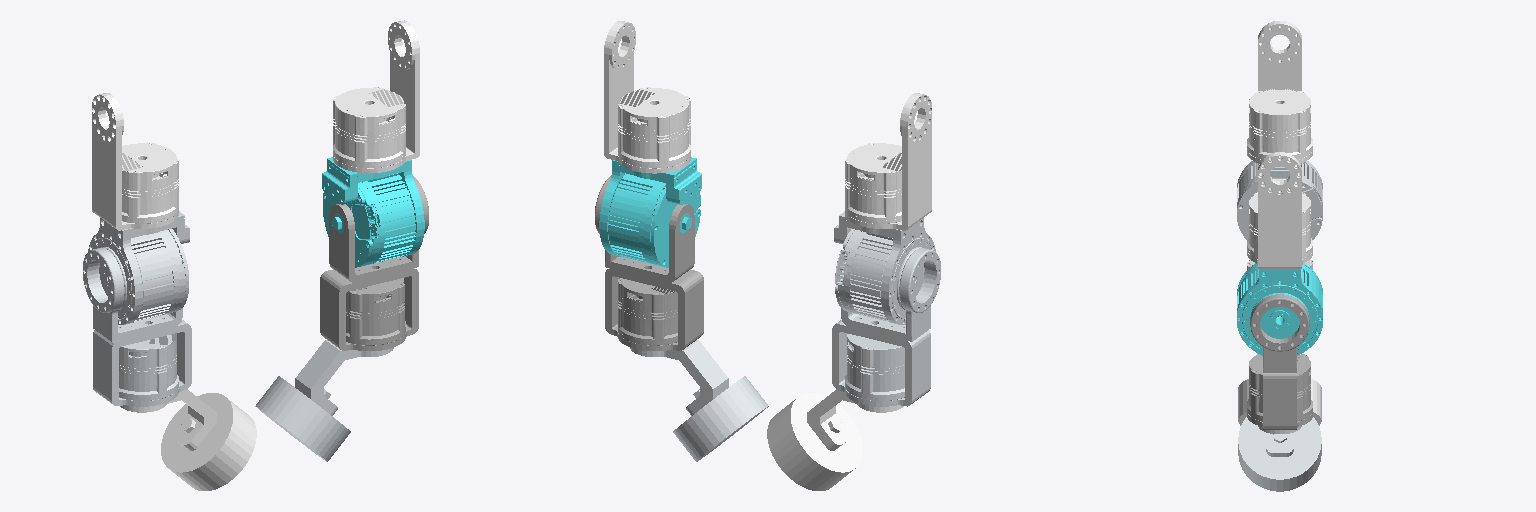
URDF robot description (00样机（更换电机）-x12.SLDASM):
<?xml version="1.0" encoding="utf-8"?>
<!-- This URDF was automatically created by SolidWorks to URDF Exporter! Originally created by Stephen Brawner (brawner@gmail.com) 
     Commit Version: 1.6.0-4-g7f85cfe  Build Version: 1.6.7995.38578
     For more information, please see http://wiki.ros.org/sw_urdf_exporter -->
<robot
  name="00样机（更换电机）-x12.SLDASM">
  <link
    name="base_link">
    <inertial>
      <origin
        xyz="-0.0 6.0765E-11 0.0"
        rpy="0 0 0" />
      <mass
        value="4.046" />
      <inertia
        ixx="0.0011674"
        ixy="1.8298E-12"
        ixz="7.6374E-05"
        iyy="0.0014108"
        iyz="1.5261E-14"
        izz="0.0013986" />
    </inertial>
    <visual>
      <origin
        xyz="0 0 0"
        rpy="0 0 0" />
      <geometry>
        <mesh
          filename="package://00样机（更换电机）-x12.SLDASM/meshes/base_link.STL" />
      </geometry>
      <material
        name="">
        <color
          rgba="1 1 1 1" />
      </material>
    </visual>
    <collision>
      <origin
        xyz="0 0 0"
        rpy="0 0 0" />
      <geometry>
        <mesh
          filename="package://00样机（更换电机）-x12.SLDASM/meshes/base_link.STL" />
      </geometry>
    </collision>
  </link>
  <link
    name="L1">
    <inertial>
      <origin
        xyz="-0.0058616 -2.587E-05 0.088761"
        rpy="0 0 0" />
      <mass
        value="2.256" />
      <inertia
        ixx="0.0013069"
        ixy="8.6975E-07"
        ixz="-0.00012077"
        iyy="0.0022158"
        iyz="2.8181E-08"
        izz="0.0016528" />
    </inertial>
    <visual>
      <origin
        xyz="0 0 0"
        rpy="0 0 0" />
      <geometry>
        <mesh
          filename="package://00样机（更换电机）-x12.SLDASM/meshes/L1.STL" />
      </geometry>
      <material
        name="">
        <color
          rgba="0.89804 0.91765 0.92941 1" />
      </material>
    </visual>
    <collision>
      <origin
        xyz="0 0 0"
        rpy="0 0 0" />
      <geometry>
        <mesh
          filename="package://00样机（更换电机）-x12.SLDASM/meshes/L1.STL" />
      </geometry>
    </collision>
  </link>
  <joint
    name="J1"
    type="revolute">
    <origin
      xyz="-0.11768 0 0.10853"
      rpy="0 0 0" />
    <parent
      link="base_link" />
    <child
      link="L1" />
    <axis
      xyz="0 0 1" />
    <limit
      lower="-3.14"
      upper="3.14"
      effort="1"
      velocity="1" />
  </joint>
  <link
    name="L2">
    <inertial>
      <origin
        xyz="0.068841 -0.0018757 0.036586"
        rpy="0 0 0" />
      <mass
        value="2.944" />
      <inertia
        ixx="0.00074098"
        ixy="2.9576E-09"
        ixz="1.6346E-06"
        iyy="0.00050229"
        iyz="1.6291E-05"
        izz="0.00043746" />
    </inertial>
    <visual>
      <origin
        xyz="0 0 0"
        rpy="0 0 0" />
      <geometry>
        <mesh
          filename="package://00样机（更换电机）-x12.SLDASM/meshes/L2.STL" />
      </geometry>
      <material
        name="">
        <color
          rgba="0.89804 0.91765 0.92941 1" />
      </material>
    </visual>
    <collision>
      <origin
        xyz="0 0 0"
        rpy="0 0 0" />
      <geometry>
        <mesh
          filename="package://00样机（更换电机）-x12.SLDASM/meshes/L2.STL" />
      </geometry>
    </collision>
  </link>
  <joint
    name="J2"
    type="revolute">
    <origin
      xyz="-0.0585000000000002 0 0.1785"
      rpy="0 0 0" />
    <parent
      link="L1" />
    <child
      link="L2" />
    <axis
      xyz="1 0 0" />
    <limit
      lower="-1"
      upper="1"
      effort="1"
      velocity="1" />
  </joint>
  <link
    name="L3">
    <inertial>
      <origin
        xyz="-0.030392 7.893E-06 0.065305"
        rpy="0 0 0" />
      <mass
        value="1.716" />
      <inertia
        ixx="0.0012653"
        ixy="2.9005E-07"
        ixz="0.00022729"
        iyy="0.0013329"
        iyz="-9.1335E-09"
        izz="0.00052747" />
    </inertial>
    <visual>
      <origin
        xyz="0 0 0"
        rpy="0 0 0" />
      <geometry>
        <mesh
          filename="package://00样机（更换电机）-x12.SLDASM/meshes/L3.STL" />
      </geometry>
      <material
        name="">
        <color
          rgba="1 1 1 1" />
      </material>
    </visual>
    <collision>
      <origin
        xyz="0 0 0"
        rpy="0 0 0" />
      <geometry>
        <mesh
          filename="package://00样机（更换电机）-x12.SLDASM/meshes/L3.STL" />
      </geometry>
    </collision>
  </link>
  <joint
    name="J3"
    type="revolute">
    <origin
      xyz="0.0585 0 0.0770000000000003"
      rpy="0 0 0" />
    <parent
      link="L2" />
    <child
      link="L3" />
    <axis
      xyz="0 0 -1" />
    <limit
      lower="-3.14"
      upper="3.14"
      effort="1"
      velocity="1" />
  </joint>
  <link
    name="L4">
    <inertial>
      <origin
        xyz="0.22293 -0.001663 -0.0070027"
        rpy="0 0 0" />
      <mass
        value="7.8919" />
      <inertia
        ixx="0.053828"
        ixy="-1.7567E-05"
        ixz="-9.6843E-08"
        iyy="0.03702"
        iyz="9.8893E-07"
        izz="0.078148" />
    </inertial>
    <visual>
      <origin
        xyz="0 0 0"
        rpy="0 0 0" />
      <geometry>
        <mesh
          filename="package://00样机（更换电机）-x12.SLDASM/meshes/L4.STL" />
      </geometry>
      <material
        name="">
        <color
          rgba="0.65098 0.61961 0.58824 1" />
      </material>
    </visual>
    <collision>
      <origin
        xyz="0 0 0"
        rpy="0 0 0" />
      <geometry>
        <mesh
          filename="package://00样机（更换电机）-x12.SLDASM/meshes/L4.STL" />
      </geometry>
    </collision>
  </link>
  <joint
    name="J4"
    type="revolute">
    <origin
      xyz="-0.0520000000000003 0 0.156"
      rpy="0 0 0" />
    <parent
      link="L3" />
    <child
      link="L4" />
    <axis
      xyz="1 0 0" />
    <limit
      lower="-3.14"
      upper="3.14"
      effort="1"
      velocity="1" />
  </joint>
  <link
    name="L5">
    <inertial>
      <origin
        xyz="-0.021608 -7.893E-06 -0.090695"
        rpy="0 0 0" />
      <mass
        value="1.716" />
      <inertia
        ixx="0.0012653"
        ixy="2.9005E-07"
        ixz="-0.00022729"
        iyy="0.0013329"
        iyz="9.1335E-09"
        izz="0.00052747" />
    </inertial>
    <visual>
      <origin
        xyz="0 0 0"
        rpy="0 0 0" />
      <geometry>
        <mesh
          filename="package://00样机（更换电机）-x12.SLDASM/meshes/L5.STL" />
      </geometry>
      <material
        name="">
        <color
          rgba="1 1 1 1" />
      </material>
    </visual>
    <collision>
      <origin
        xyz="0 0 0"
        rpy="0 0 0" />
      <geometry>
        <mesh
          filename="package://00样机（更换电机）-x12.SLDASM/meshes/L5.STL" />
      </geometry>
    </collision>
  </link>
  <joint
    name="J5"
    type="revolute">
    <origin
      xyz="0.446000000000001 0 0"
      rpy="0 0 0" />
    <parent
      link="L4" />
    <child
      link="L5" />
    <axis
      xyz="-1 0 0" />
    <limit
      lower="-3.14"
      upper="3.14"
      effort="1"
      velocity="1" />
  </joint>
  <link
    name="L6">
    <inertial>
      <origin
        xyz="-0.010341 0.0018757 -0.040414"
        rpy="0 0 0" />
      <mass
        value="2.944" />
      <inertia
        ixx="0.00074098"
        ixy="2.9581E-09"
        ixz="-1.6346E-06"
        iyy="0.00050229"
        iyz="-1.6291E-05"
        izz="0.00043746" />
    </inertial>
    <visual>
      <origin
        xyz="0 0 0"
        rpy="0 0 0" />
      <geometry>
        <mesh
          filename="package://00样机（更换电机）-x12.SLDASM/meshes/L6.STL" />
      </geometry>
      <material
        name="">
        <color
          rgba="0.43529 0.96471 1 1" />
      </material>
    </visual>
    <collision>
      <origin
        xyz="0 0 0"
        rpy="0 0 0" />
      <geometry>
        <mesh
          filename="package://00样机（更换电机）-x12.SLDASM/meshes/L6.STL" />
      </geometry>
    </collision>
  </link>
  <joint
    name="J6"
    type="revolute">
    <origin
      xyz="-0.0520000000000003 0 -0.156"
      rpy="0 0 0" />
    <parent
      link="L5" />
    <child
      link="L6" />
    <axis
      xyz="0 0 -1" />
    <limit
      lower="-3.14"
      upper="3.14"
      effort="1"
      velocity="1" />
  </joint>
  <link
    name="L7">
    <inertial>
      <origin
        xyz="-0.052648 8.6983E-06 -0.089739"
        rpy="0 0 0" />
      <mass
        value="2.256" />
      <inertia
        ixx="0.0013064"
        ixy="5.1566E-07"
        ixz="0.00012079"
        iyy="0.0022163"
        iyz="-1.3803E-08"
        izz="0.0016528" />
    </inertial>
    <visual>
      <origin
        xyz="0 0 0"
        rpy="0 0 0" />
      <geometry>
        <mesh
          filename="package://00样机（更换电机）-x12.SLDASM/meshes/L7.STL" />
      </geometry>
      <material
        name="">
        <color
          rgba="0.75294 0.75294 0.75294 1" />
      </material>
    </visual>
    <collision>
      <origin
        xyz="0 0 0"
        rpy="0 0 0" />
      <geometry>
        <mesh
          filename="package://00样机（更换电机）-x12.SLDASM/meshes/L7.STL" />
      </geometry>
    </collision>
  </link>
  <joint
    name="J7"
    type="revolute">
    <origin
      xyz="0.0584999999999999 0 -0.0770000000000003"
      rpy="0 0 0" />
    <parent
      link="L6" />
    <child
      link="L7" />
    <axis
      xyz="-1 0 0" />
    <limit
      lower="-1"
      upper="1"
      effort="1"
      velocity="1" />
  </joint>
  <link
    name="L8">
    <inertial>
      <origin
        xyz="-0.079364 1.2547E-10 -0.065873"
        rpy="0 0 0" />
      <mass
        value="4.046" />
      <inertia
        ixx="0.0011674"
        ixy="-6.147E-13"
        ixz="-7.6374E-05"
        iyy="0.0014108"
        iyz="-3.1226E-12"
        izz="0.0013986" />
    </inertial>
    <visual>
      <origin
        xyz="0 0 0"
        rpy="0 0 0" />
      <geometry>
        <mesh
          filename="package://00样机（更换电机）-x12.SLDASM/meshes/L8.STL" />
      </geometry>
      <material
        name="">
        <color
          rgba="0.89804 0.91765 0.92941 1" />
      </material>
    </visual>
    <collision>
      <origin
        xyz="0 0 0"
        rpy="0 0 0" />
      <geometry>
        <mesh
          filename="package://00样机（更换电机）-x12.SLDASM/meshes/L8.STL" />
      </geometry>
    </collision>
  </link>
  <joint
    name="J8"
    type="revolute">
    <origin
      xyz="-0.0585000000000004 0 -0.1785"
      rpy="0 0 0" />
    <parent
      link="L7" />
    <child
      link="L8" />
    <axis
      xyz="0 0 1" />
    <limit
      lower="-3.14"
      upper="3.14"
      effort="1"
      velocity="1" />
  </joint>
</robot>

--- What the picture shows (computed from the rendered views, not written in the file) ---
The picture shows the robot from 3 angles, left to right: view 1: azimuth 30°, elevation 25°; view 2: azimuth 150°, elevation 25°; view 3: azimuth 270°, elevation 25°; orthographic projection.
Model 00样机（更换电机）-x12.SLDASM with 9 links and 8 joints (8 revolute), rooted at base_link, posed all joints at 0.
Visible links, largest first — view 1: L1, L7, L5, L3, L6, base_link, L2, L8; view 2: L1, L7, L5, L3, L6, base_link, L2, L8; view 3: L3, L7, L5, L6, L8, L2, base_link.
Boxes of the visible links, box(x1,y1,x2,y2) form: L1: box(83, 248, 191, 406); L7: box(320, 176, 428, 350); L5: box(333, 20, 419, 172); L3: box(92, 93, 178, 230); L6: box(322, 157, 424, 267); base_link: box(120, 389, 256, 490); L2: box(88, 211, 189, 324); L8: box(255, 340, 393, 461); L1: box(832, 248, 940, 406); L7: box(595, 176, 703, 350); L5: box(604, 21, 690, 173); L3: box(845, 93, 931, 230); L6: box(599, 157, 701, 267); base_link: box(767, 389, 903, 490); L2: box(834, 211, 935, 324); L8: box(630, 340, 768, 461); L3: box(1247, 21, 1312, 166); L7: box(1247, 294, 1312, 429); L5: box(1247, 152, 1312, 268); L6: box(1237, 263, 1322, 355); L8: box(1238, 417, 1321, 491); L2: box(1237, 161, 1322, 239); base_link: box(1238, 379, 1321, 425).
Bounding box of the posed robot: 0.475 × 0.1246 × 0.5943 m (x, y, z).
Meshes: 9 distinct files referenced, 8 mesh visuals loaded (8 binary STL); not drawn: 1 (reference not matched to a file when rendering).
